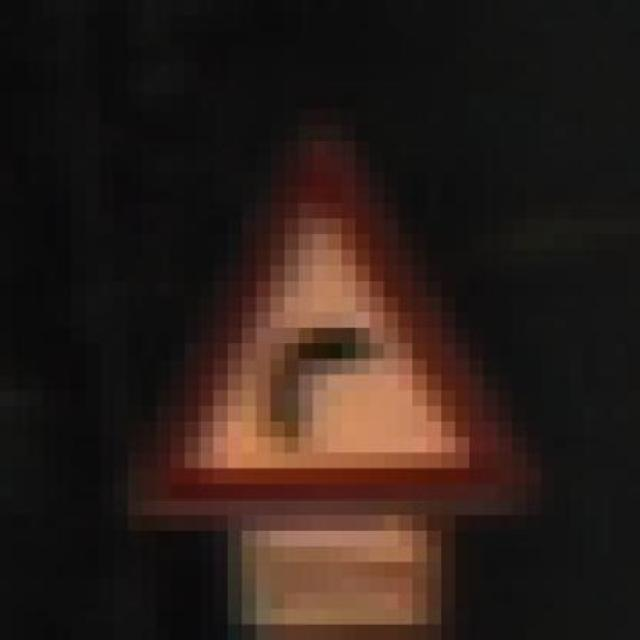Dangerous Rright Curve Ahead: (128, 124, 555, 516)
